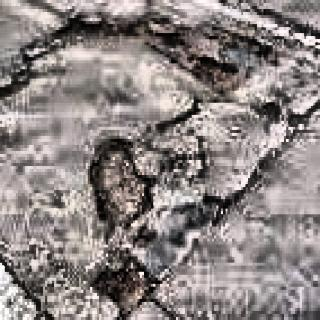pothole: (85, 137, 154, 232), (89, 255, 158, 320)
